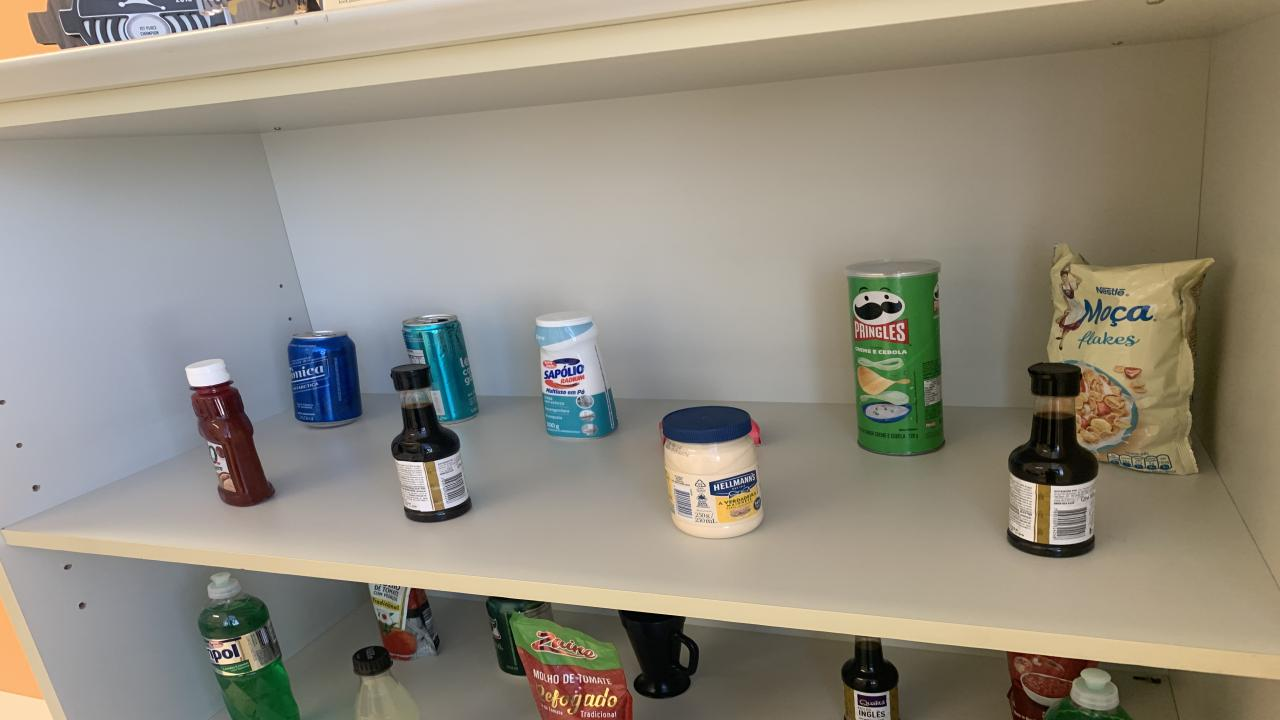Cleaner-Cleanup_Items: (535, 311, 618, 437)
Detergent-Cleanup_Items: (198, 572, 300, 720), (1045, 668, 1132, 720)
English_Sauce-Pantry_Items: (1008, 364, 1098, 557), (390, 364, 470, 523), (842, 636, 900, 720)
Flakes-Snacks: (1048, 244, 1212, 474)
Guarana_Can-Drinks: (485, 596, 552, 675)
Ketchup-Pantry_Items: (185, 360, 275, 506)
Mayonnaise-Pantry_Items: (660, 407, 762, 538)
Pringles-Snacks: (845, 259, 945, 456)
Soda-Drinks: (352, 645, 420, 720)
Tea-Drinks: (402, 315, 478, 424)
Tomato_Sauce-Pantry_Items: (510, 613, 632, 720), (1005, 652, 1098, 720), (370, 583, 440, 660)
Tonic-Drinks: (288, 332, 362, 428)
